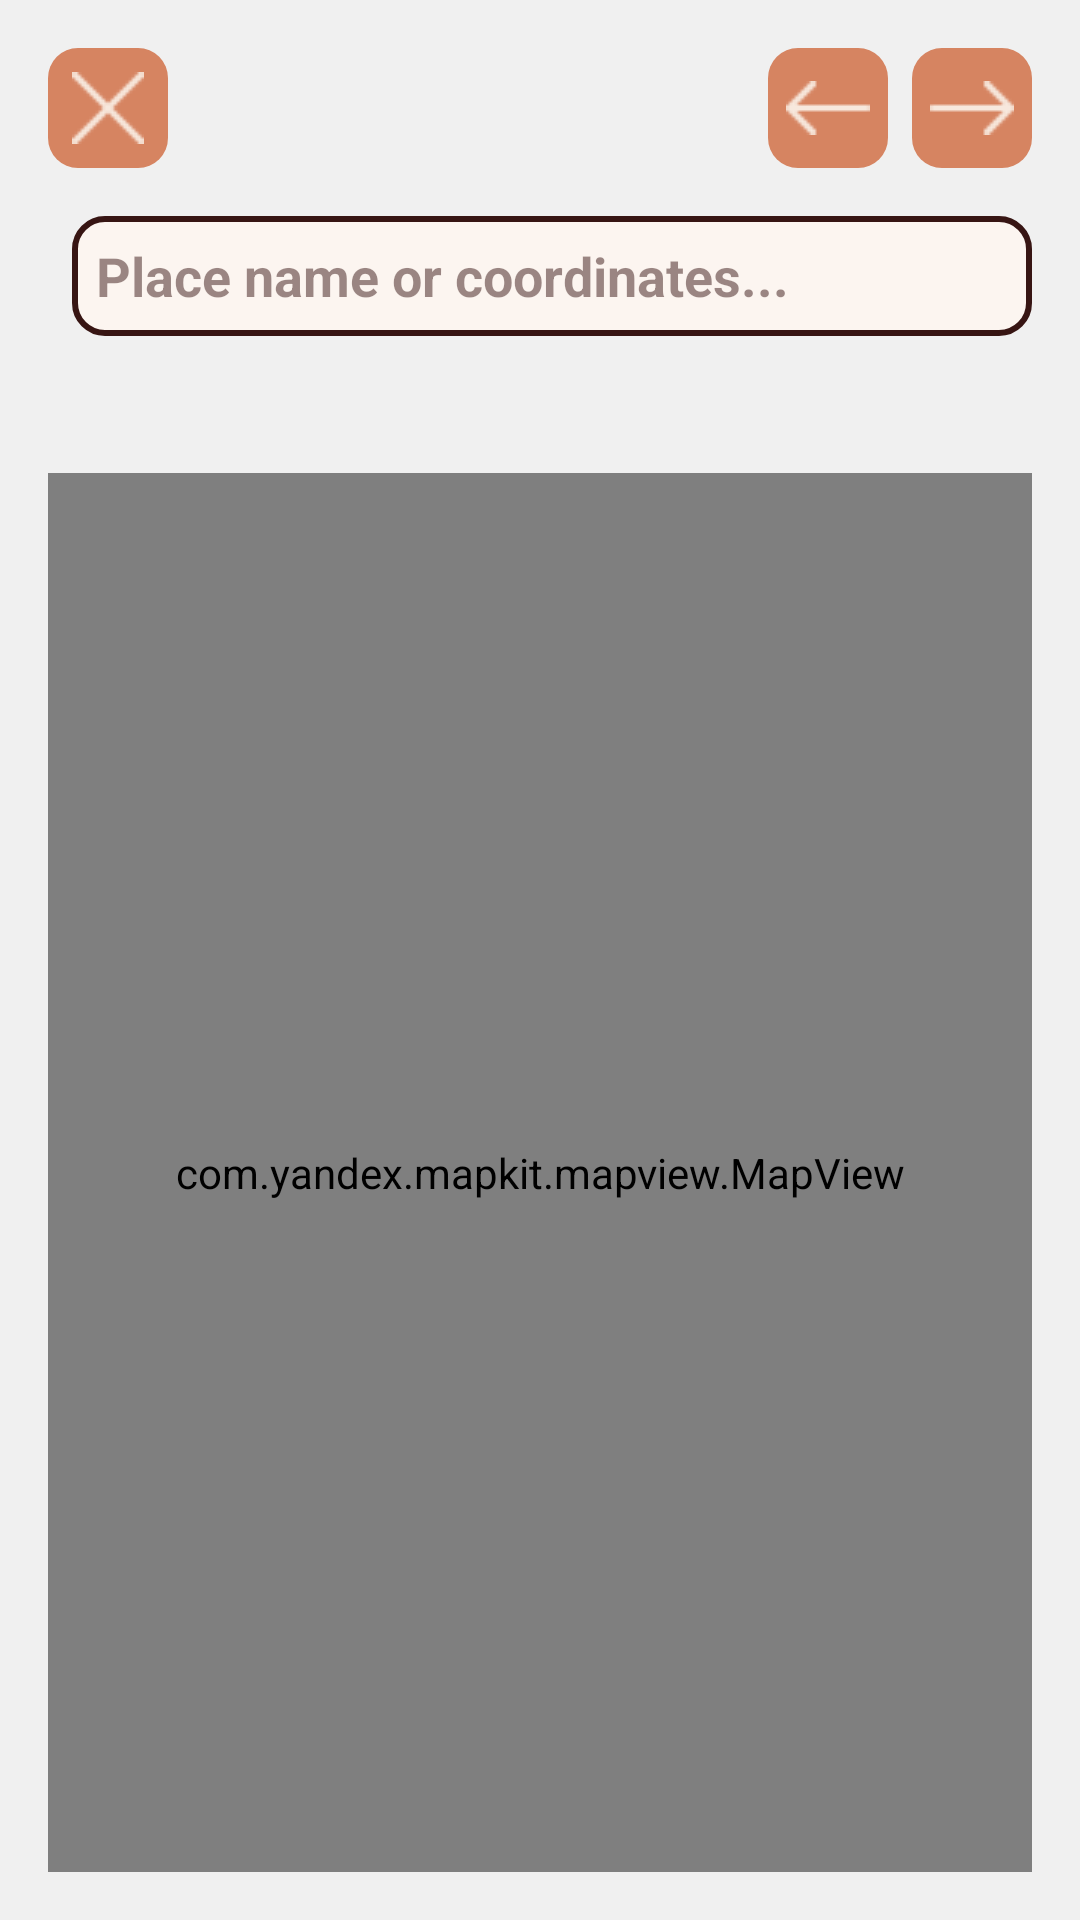

Screen size 1080 × 1920. Icon name, then its box in pixels as (x1, y1, x2, y2):
close: (48, 48, 168, 168)
left arrow: (768, 48, 888, 168)
right arrow: (912, 48, 1032, 168)
